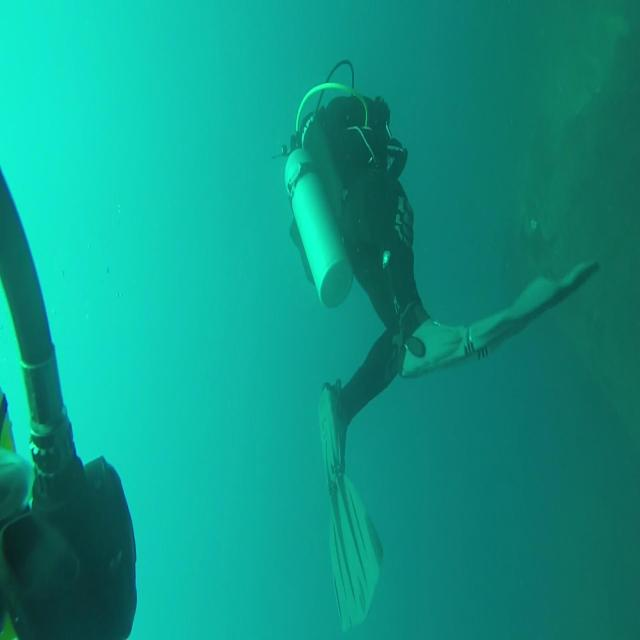human: (277, 60, 600, 630), (0, 165, 138, 638)
